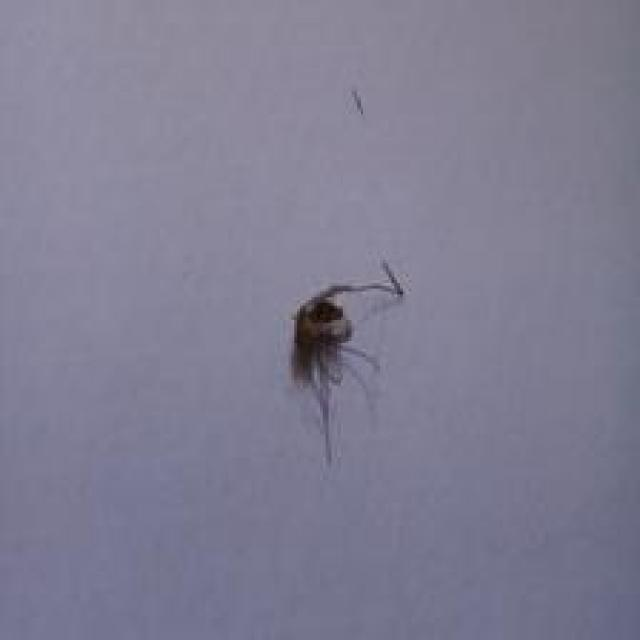Culex: (286, 257, 406, 466)
